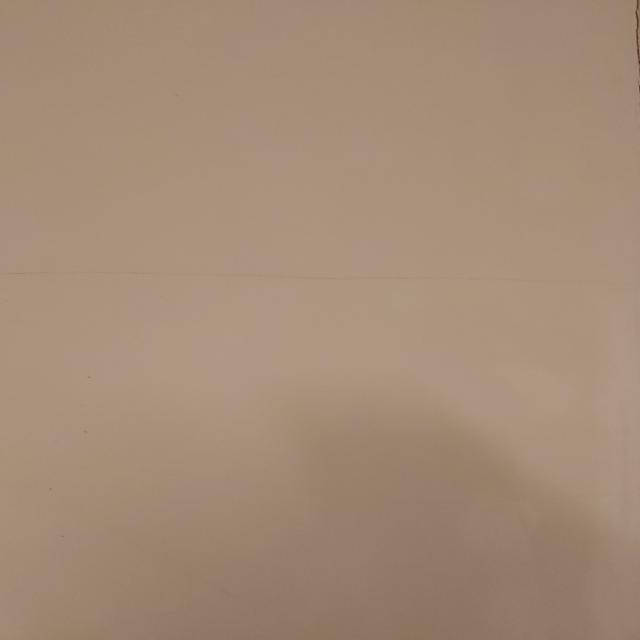Crack: (4, 266, 637, 290)
